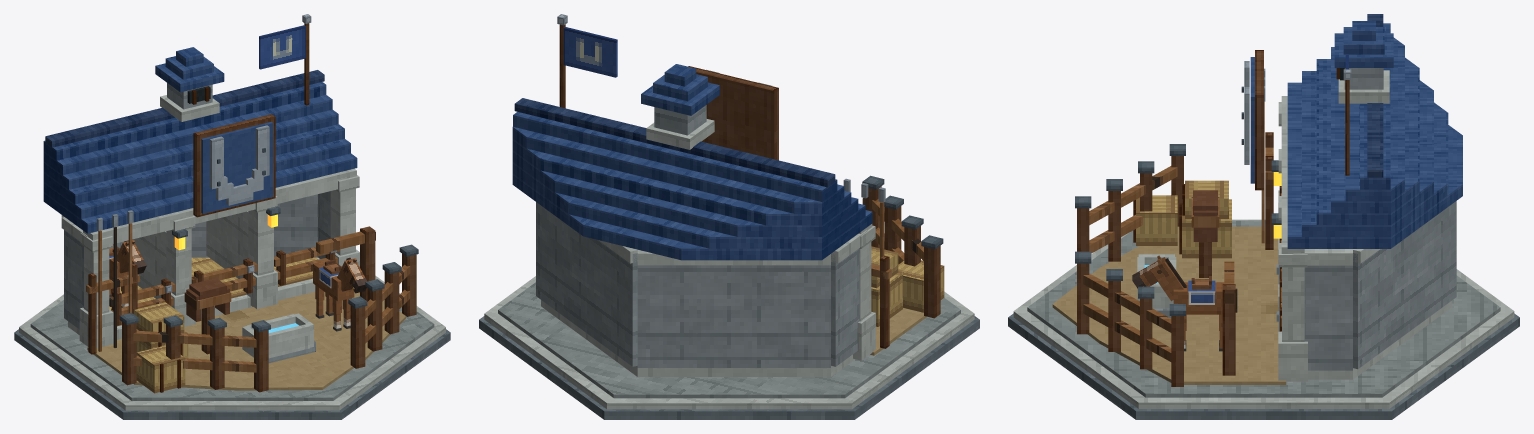
The model's file is war_stable_hex_v1.glb.
3 renders of one model, left to right at view 1: azimuth 30°, elevation 25°; view 2: azimuth 150°, elevation 25°; view 3: azimuth 270°, elevation 25°, orthographic. The views are drawn at different scales.
Visible parts, largest first — view 1: War_Stable_Hex_V1_Hall, War_Stable_Hex_V1_Roofs, War_Stable_Hex_V1_Courtyard, War_Stable_Hex_V1_Foundation, War_Stable_Hex_V1_Equipment, War_Stable_Hex_V1_Heraldry, War_Stable_Hex_V1_Horses, War_Stable_Hex_V1_Details; view 2: War_Stable_Hex_V1_Hall, War_Stable_Hex_V1_Roofs, War_Stable_Hex_V1_Foundation, War_Stable_Hex_V1_Heraldry, War_Stable_Hex_V1_Courtyard, War_Stable_Hex_V1_Equipment; view 3: War_Stable_Hex_V1_Roofs, War_Stable_Hex_V1_Foundation, War_Stable_Hex_V1_Courtyard, War_Stable_Hex_V1_Hall, War_Stable_Hex_V1_Equipment, War_Stable_Hex_V1_Heraldry, War_Stable_Hex_V1_Horses, War_Stable_Hex_V1_Details.
Boxes of the visible parts, bbox=[...] form: War_Stable_Hex_V1_Hall: bbox=[61, 83, 359, 347]; War_Stable_Hex_V1_Roofs: bbox=[43, 47, 357, 233]; War_Stable_Hex_V1_Courtyard: bbox=[87, 244, 418, 392]; War_Stable_Hex_V1_Foundation: bbox=[14, 275, 450, 419]; War_Stable_Hex_V1_Equipment: bbox=[86, 210, 375, 393]; War_Stable_Hex_V1_Heraldry: bbox=[193, 14, 311, 217]; War_Stable_Hex_V1_Horses: bbox=[109, 240, 367, 331]; War_Stable_Hex_V1_Details: bbox=[172, 206, 315, 363]; War_Stable_Hex_V1_Hall: bbox=[536, 105, 875, 376]; War_Stable_Hex_V1_Roofs: bbox=[512, 64, 872, 260]; War_Stable_Hex_V1_Foundation: bbox=[479, 276, 979, 419]; War_Stable_Hex_V1_Heraldry: bbox=[557, 14, 778, 160]; War_Stable_Hex_V1_Courtyard: bbox=[862, 175, 943, 355]; War_Stable_Hex_V1_Equipment: bbox=[843, 178, 944, 348]; War_Stable_Hex_V1_Roofs: bbox=[1287, 14, 1462, 248]; War_Stable_Hex_V1_Foundation: bbox=[1008, 219, 1519, 419]; War_Stable_Hex_V1_Courtyard: bbox=[1052, 144, 1286, 386]; War_Stable_Hex_V1_Hall: bbox=[1276, 68, 1456, 381]; War_Stable_Hex_V1_Equipment: bbox=[1133, 68, 1273, 375]; War_Stable_Hex_V1_Heraldry: bbox=[1241, 50, 1351, 190]; War_Stable_Hex_V1_Horses: bbox=[1132, 255, 1237, 351]; War_Stable_Hex_V1_Details: bbox=[1137, 160, 1281, 318].
Size of the model in its own units: 1.59 by 1.26 by 1.84.
1 material, 1 textured.
